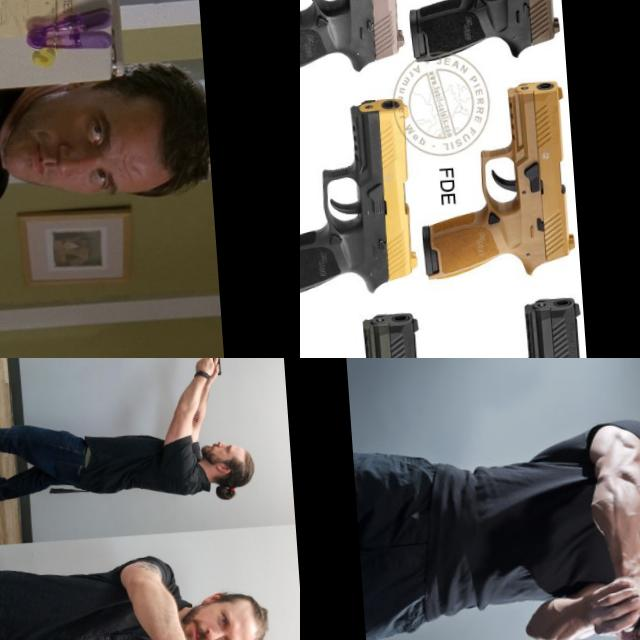handgun: (408, 78, 576, 285), (300, 94, 422, 303), (396, 0, 562, 98), (300, 0, 410, 104), (425, 294, 594, 358), (202, 358, 226, 381)
